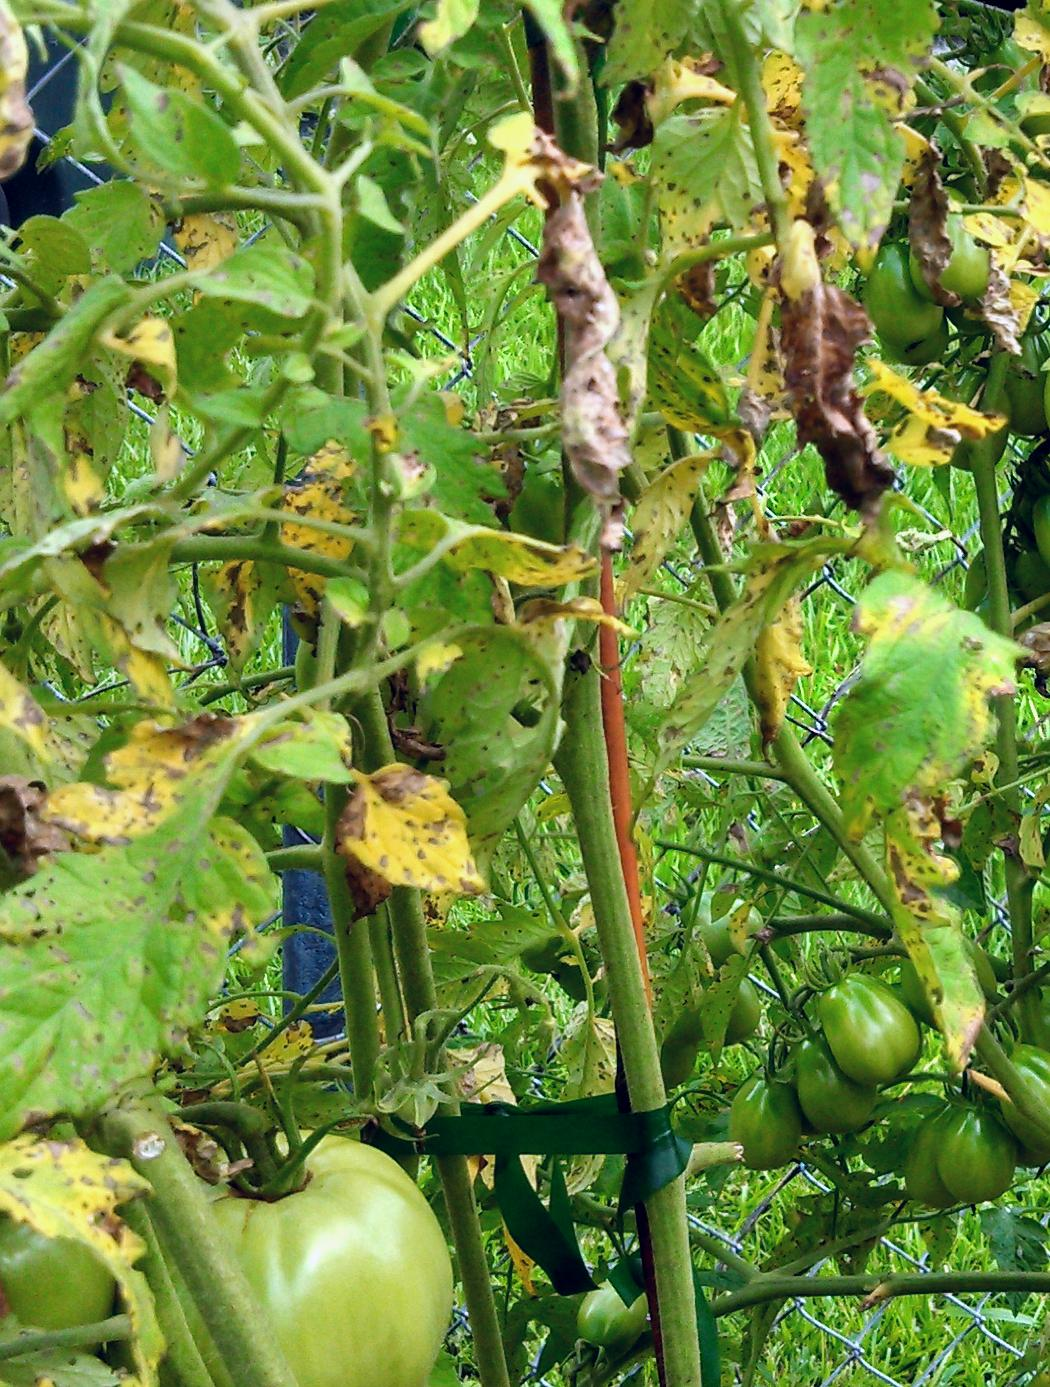Tomato Septoria leaf spot: (0, 777, 283, 1186), (774, 0, 955, 300)
